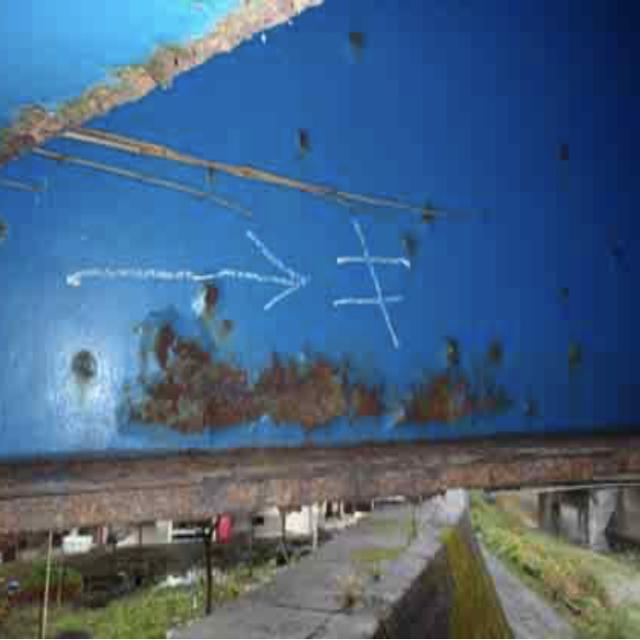corrosion: (4, 284, 632, 537)
